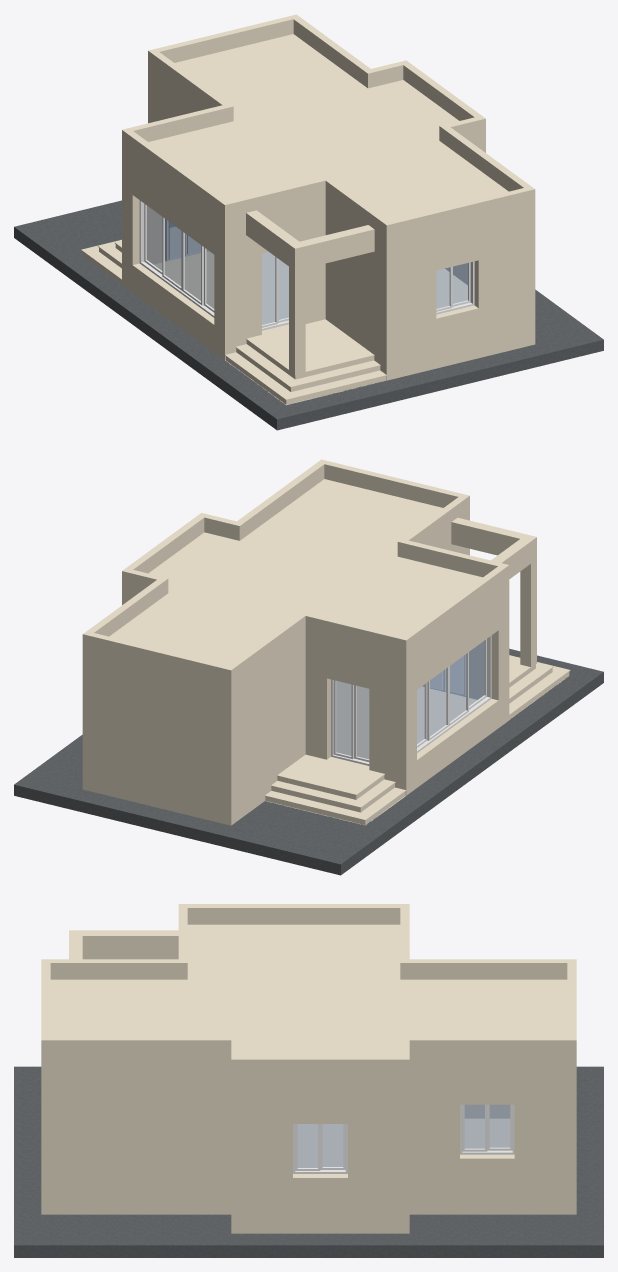
The picture shows the model from 3 angles, top to bottom: view 1: azimuth 30°, elevation 25°; view 2: azimuth 150°, elevation 25°; view 3: azimuth 270°, elevation 25°; orthographic projection. The views are drawn at different scales.
Visible parts, largest first — view 1: 5808, 6609, 6942, 5842, 7535, 6540, 7940, 7365, Component#1, 6202, 7992, 7525; view 2: 5808, 6609, 6942, 6202, 7535, 7525, 5842, 6540, 7940, 7365, 7992; view 3: 5808, 6609, 6942, Component#1 (×2), 7992.
Boxes of the visible parts, x1=… form: 5808: x1=122, y1=14, x2=535, y2=380; 6609: x1=148, y1=34, x2=508, y2=220; 6942: x1=14, y1=200, x2=603, y2=430; 5842: x1=225, y1=319, x2=386, y2=405; 7535: x1=139, y1=200, x2=214, y2=317; 6540: x1=289, y1=241, x2=305, y2=374; 7940: x1=300, y1=225, x2=374, y2=268; 7365: x1=262, y1=252, x2=288, y2=330; Component#1: x1=436, y1=261, x2=474, y2=314; 6202: x1=81, y1=227, x2=200, y2=283; 7992: x1=246, y1=210, x2=298, y2=265; 7525: x1=165, y1=219, x2=200, y2=261; 5808: x1=82, y1=459, x2=509, y2=825; 6609: x1=109, y1=479, x2=482, y2=665; 6942: x1=14, y1=648, x2=603, y2=875; 6202: x1=265, y1=754, x2=406, y2=825; 7535: x1=417, y1=635, x2=491, y2=752; 7525: x1=331, y1=679, x2=369, y2=765; 5842: x1=430, y1=655, x2=570, y2=719; 6540: x1=520, y1=534, x2=536, y2=666; 7940: x1=451, y1=517, x2=525, y2=555; 7365: x1=430, y1=654, x2=465, y2=696; 7992: x1=491, y1=539, x2=530, y2=578; 5808: x1=41, y1=904, x2=576, y2=1233; 6609: x1=50, y1=924, x2=567, y2=1055; 6942: x1=14, y1=1066, x2=603, y2=1257; Component#1 (×2): x1=293, y1=1104, x2=514, y2=1173; 7992: x1=82, y1=930, x2=178, y2=959.
Size of the model in its own units: 9.25 by 4.5 by 12.9.
Materials: 256 (6 with a texture image).
